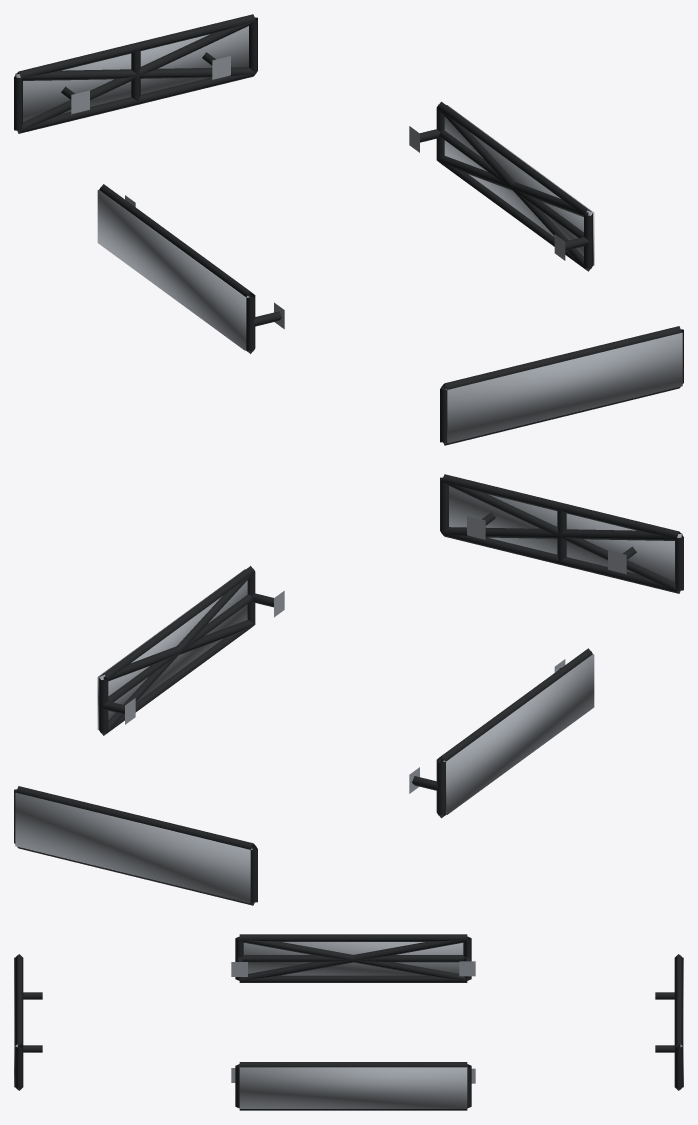
File: ottavo_corte_protecao.glb
The picture shows the model from 3 angles, top to bottom: view 1: azimuth 30°, elevation 25°; view 2: azimuth 150°, elevation 25°; view 3: azimuth 270°, elevation 25°; orthographic projection. The views are drawn at different scales.
Parts seen in each view (by area): view 1: Protection_front_Level3_Details, Protection_left_Level3_Details, Protection_rear_Level1_Details, Protection_rear_Level3_Details, Protection_right_Level1_Details, Protection_rear_Level2_Details, Protection_right_Level2_Details, Protection_right_Level3_Details, Protection_front_Level1_Details, Protection_left_Level1_Details; view 2: Protection_rear_Level3_Details, Protection_left_Level3_Details, Protection_front_Level1_Details, Protection_front_Level3_Details, Protection_right_Level1_Details, Protection_front_Level2_Details, Protection_right_Level2_Details, Protection_right_Level3_Details, Protection_rear_Level1_Details, Protection_left_Level1_Details; view 3: Protection_right_Level3_Details, Protection_left_Level2_Details, Protection_left_Level1_Details, Protection_left_Level3_Details, Protection_right_Level1_Details, Protection_rear_Level1_Details, Protection_front_Level1_Details.
Part boxes in pixels (x1,y1,x2,y2): Protection_front_Level3_Details: (445, 332, 682, 443); Protection_left_Level3_Details: (97, 190, 249, 350); Protection_rear_Level1_Details: (14, 14, 257, 133); Protection_rear_Level3_Details: (15, 26, 248, 121); Protection_right_Level1_Details: (409, 101, 592, 271); Protection_rear_Level2_Details: (16, 21, 255, 132); Protection_right_Level2_Details: (437, 108, 591, 270); Protection_right_Level3_Details: (444, 105, 594, 265); Protection_front_Level1_Details: (440, 326, 683, 445); Protection_left_Level1_Details: (99, 184, 284, 353); Protection_rear_Level3_Details: (15, 792, 252, 903); Protection_left_Level3_Details: (443, 654, 594, 814); Protection_front_Level1_Details: (440, 474, 683, 593); Protection_front_Level3_Details: (449, 486, 682, 581); Protection_right_Level1_Details: (99, 566, 284, 735); Protection_front_Level2_Details: (442, 481, 681, 592); Protection_right_Level2_Details: (100, 572, 254, 735); Protection_right_Level3_Details: (97, 569, 247, 729); Protection_rear_Level1_Details: (14, 786, 257, 905); Protection_left_Level1_Details: (409, 648, 592, 818); Protection_right_Level3_Details: (239, 1067, 467, 1108); Protection_left_Level2_Details: (239, 937, 467, 980); Protection_left_Level1_Details: (231, 934, 475, 982); Protection_left_Level3_Details: (243, 942, 463, 975); Protection_right_Level1_Details: (231, 1062, 475, 1110); Protection_rear_Level1_Details: (655, 954, 682, 1090); Protection_front_Level1_Details: (15, 954, 42, 1090).
Bounding box in the file's own units: 2.07 × 0.354 × 4.44.
1 material, 1 textured.
